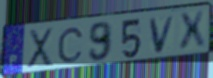5: (120, 16, 143, 60)
9: (87, 20, 115, 64)
C: (56, 26, 85, 65)
V: (148, 14, 177, 55)
X: (178, 9, 208, 54), (25, 26, 55, 70)
